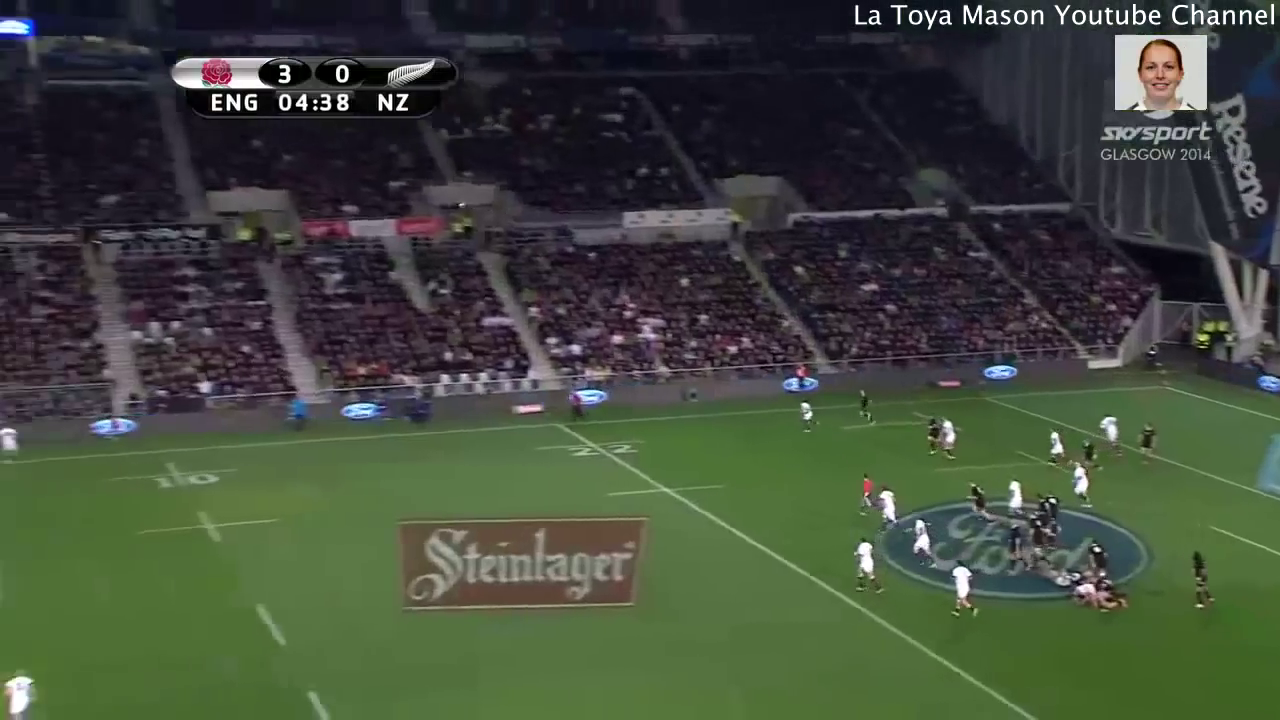10_metre: (129, 508, 288, 549), (104, 458, 240, 492)
player: (850, 532, 889, 601), (1, 661, 46, 720), (946, 556, 985, 620), (1186, 545, 1222, 612), (1095, 410, 1131, 464), (962, 477, 998, 526), (908, 515, 938, 572), (1067, 457, 1095, 513), (1005, 519, 1031, 572), (876, 484, 900, 538), (1136, 418, 1160, 469), (793, 396, 822, 436), (1, 424, 27, 468), (1042, 427, 1071, 466), (938, 414, 960, 465), (1004, 476, 1027, 516), (856, 388, 879, 427), (857, 472, 876, 519), (1083, 539, 1108, 572), (1072, 581, 1100, 610), (1078, 436, 1100, 472), (923, 414, 941, 452), (1041, 515, 1060, 551), (1050, 566, 1082, 586), (1023, 517, 1043, 548), (1045, 491, 1061, 520), (1036, 492, 1048, 523)
ruck: (1057, 569, 1125, 613)
